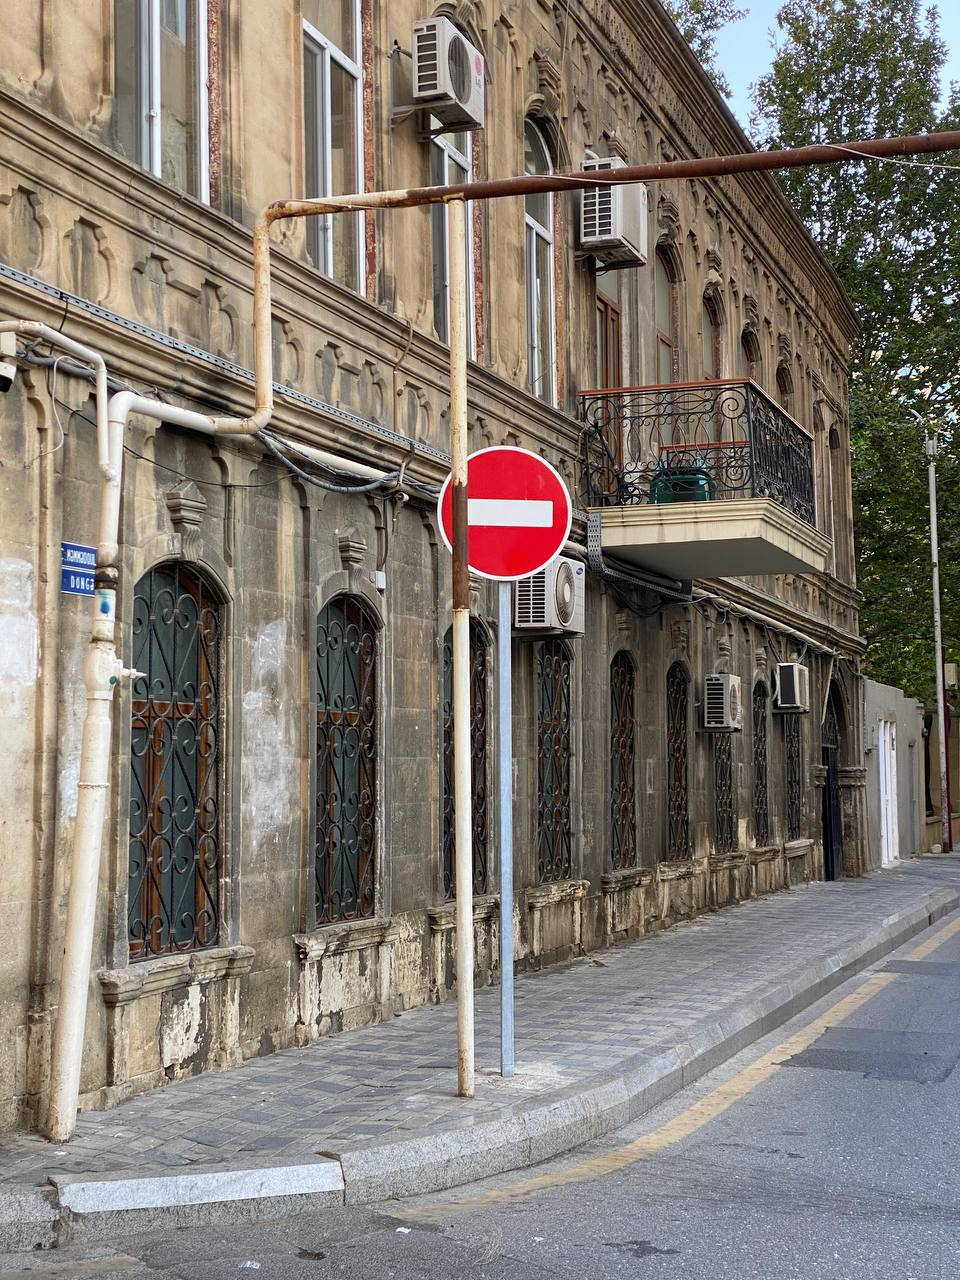No Entry: (438, 446, 572, 582)
